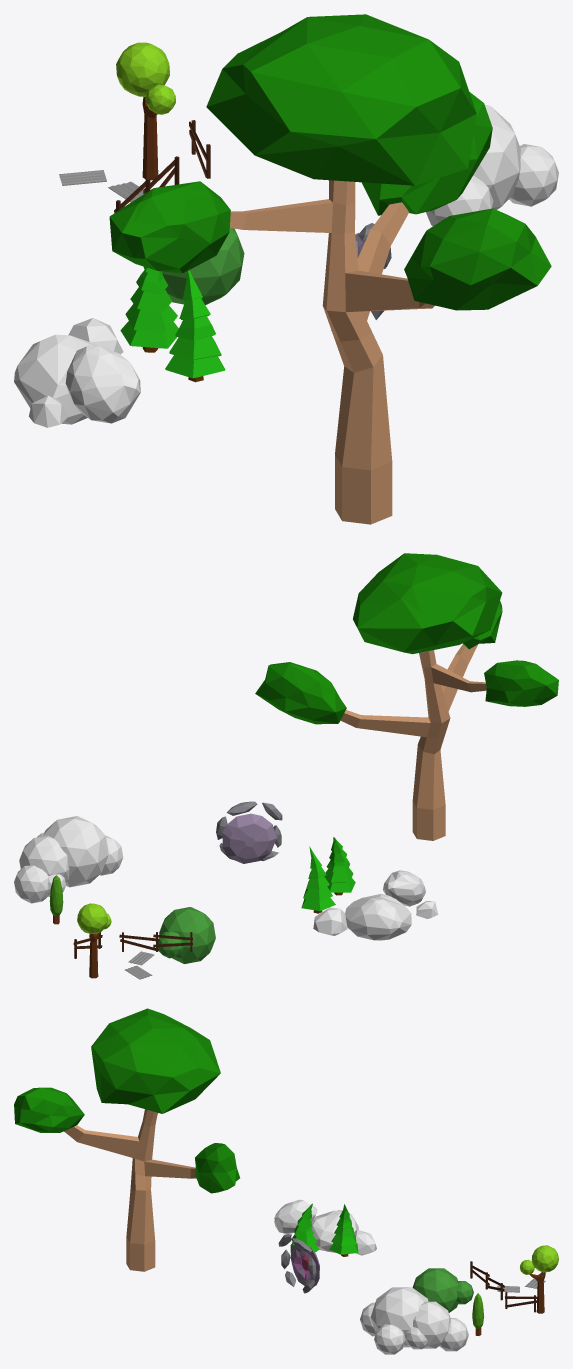
Rendered from stone.glb.
3 views of the same model, one above another, from view 1: azimuth 30°, elevation 25°; view 2: azimuth 150°, elevation 25°; view 3: azimuth 270°, elevation 25° (orthographic). The views are drawn at different scales.
Parts seen in each view (by area): view 1: Icokugel.003, Zylinder, Icokugel.002, Icokugel.001, Sphere.001, Icokugel, Sphere, Cylinder, Cylinder.001, Icosphere.025, Icosphere.016, Icosphere_Icosphere.002 (+6 smaller); view 2: Icokugel.003, Zylinder, Icokugel, Icokugel.001, Icosphere.016, Sphere, Cylinder.011, Icosphere.025, Icosphere.017, Cylinder.001, Sphere.001, Cylinder (+5 smaller); view 3: Icokugel.003, Zylinder, Icokugel.002, Icosphere.016, Icokugel, Icosphere.025, Icosphere.017, Sphere, Cylinder.001, Sphere.001, Icosphere.015, Cylinder.011 (+3 smaller).
Boxes of the visible parts, x1,y1,x2,y2 form: Icokugel.003: (206,14,476,185); Zylinder: (230,180,434,524); Icokugel.002: (404,208,551,310); Icokugel.001: (109,181,230,273); Sphere.001: (65,345,140,423); Icokugel: (361,92,492,215); Sphere: (14,334,112,424); Cylinder: (165,270,225,382); Cylinder.001: (120,266,178,352); Icosphere.025: (162,228,244,304); Icosphere.016: (473,105,520,209); Icosphere_Icosphere.002: (116,42,169,96); Icokugel.003: (353,553,502,654); Zylinder: (340,644,486,840); Icokugel: (255,662,346,724); Icokugel.001: (484,660,558,706); Icosphere.016: (43,816,108,887); Sphere: (345,893,411,940); Cylinder.011: (222,813,276,863); Icosphere.025: (159,907,215,963); Icosphere.017: (19,835,69,882); Cylinder.001: (301,846,335,913); Sphere.001: (383,870,425,906); Cylinder: (324,837,355,895); Icokugel.003: (91,1008,220,1113); Zylinder: (64,1109,196,1271); Icokugel.002: (14,1087,84,1132); Icosphere.016: (370,1287,428,1347); Icokugel: (195,1143,239,1193); Icosphere.025: (412,1268,457,1312); Icosphere.017: (413,1301,450,1348); Sphere: (310,1210,358,1252); Cylinder.001: (329,1204,358,1256); Sphere.001: (274,1199,317,1234); Icosphere.015: (374,1324,405,1354); Cylinder.011: (290,1245,319,1286).
Size of what is drawn, in the model's own units: 26.14 by 18.97 by 36.37.
